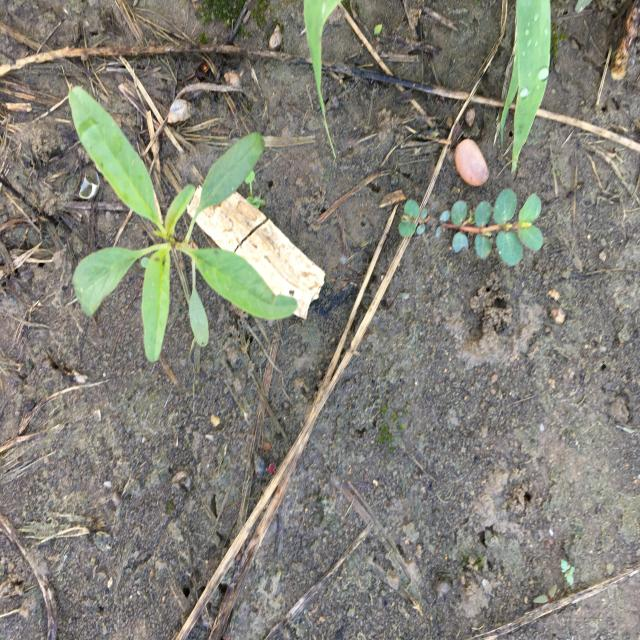SpottedSpurge: (396, 187, 545, 269)
Waterhemp: (67, 84, 300, 365)
